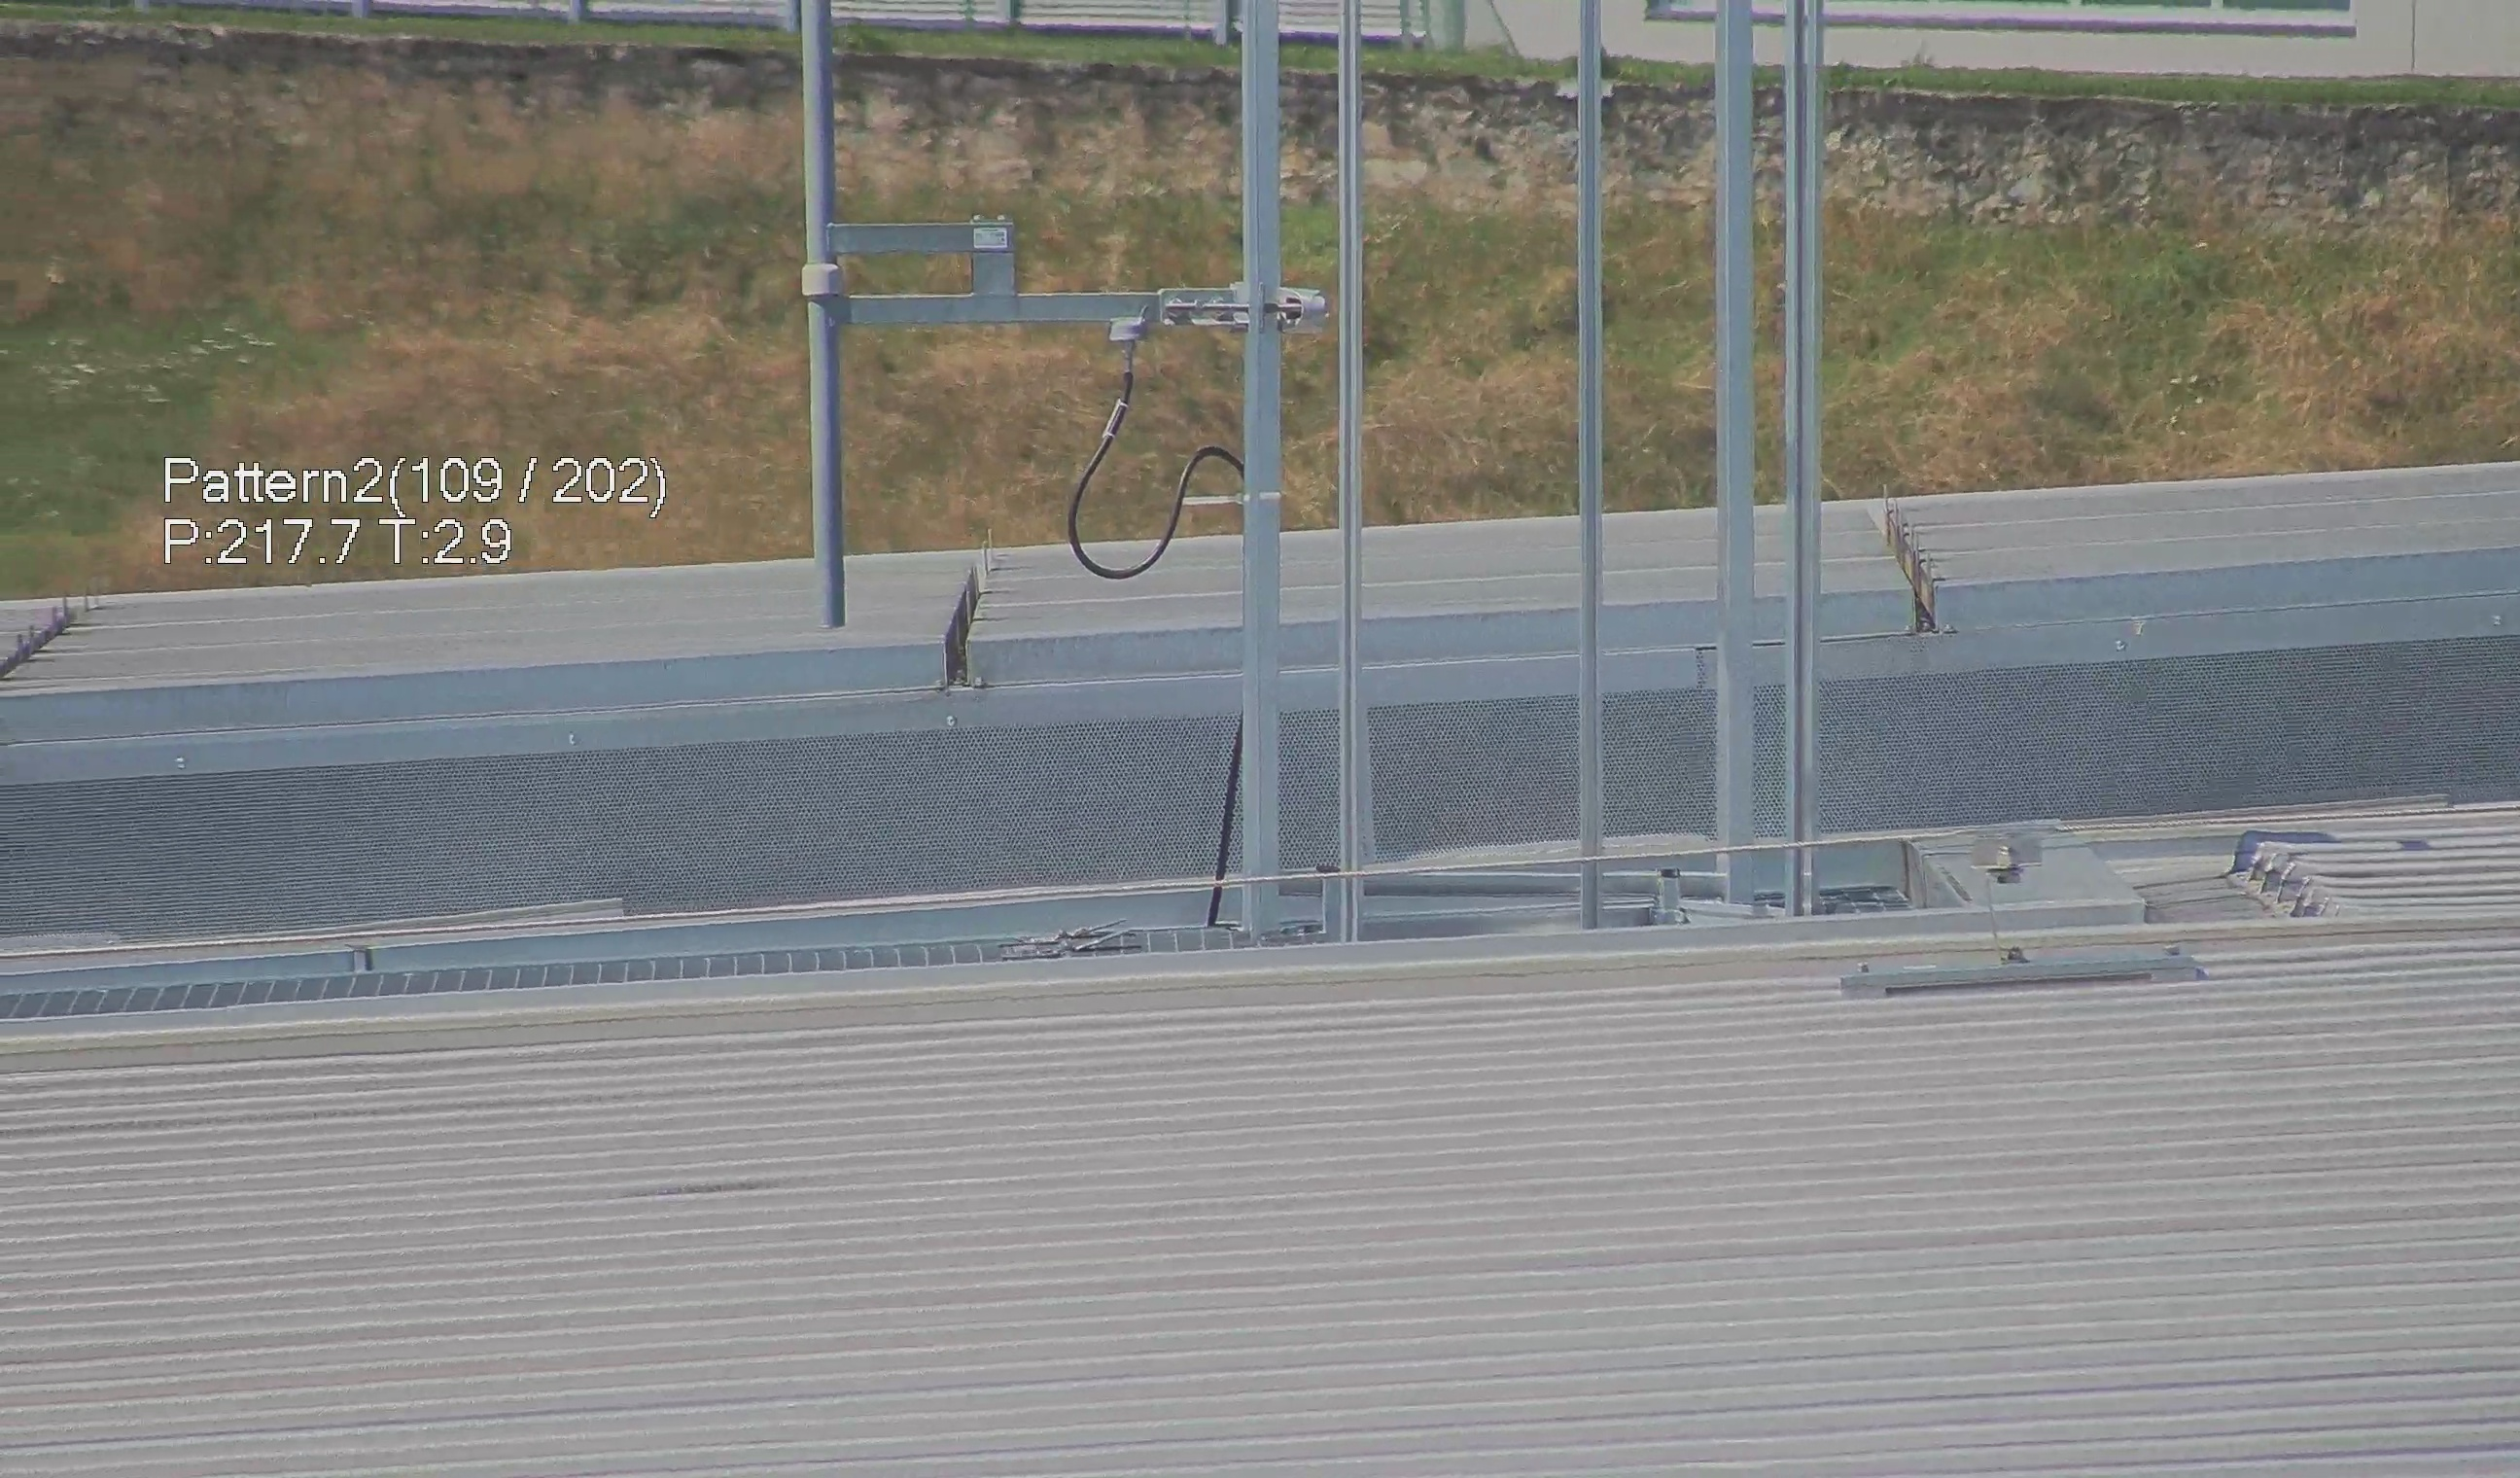Other: (925, 542, 997, 697)
